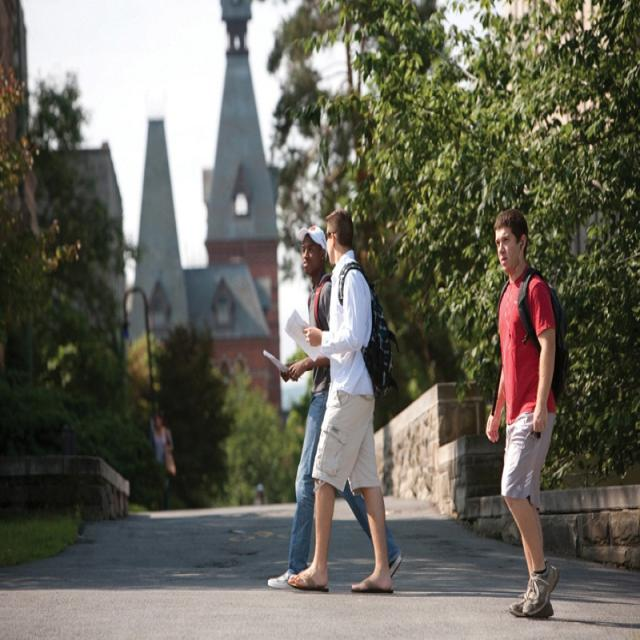body: (266, 223, 404, 591), (286, 206, 394, 594), (485, 206, 572, 618), (150, 407, 176, 512), (252, 478, 266, 507)
